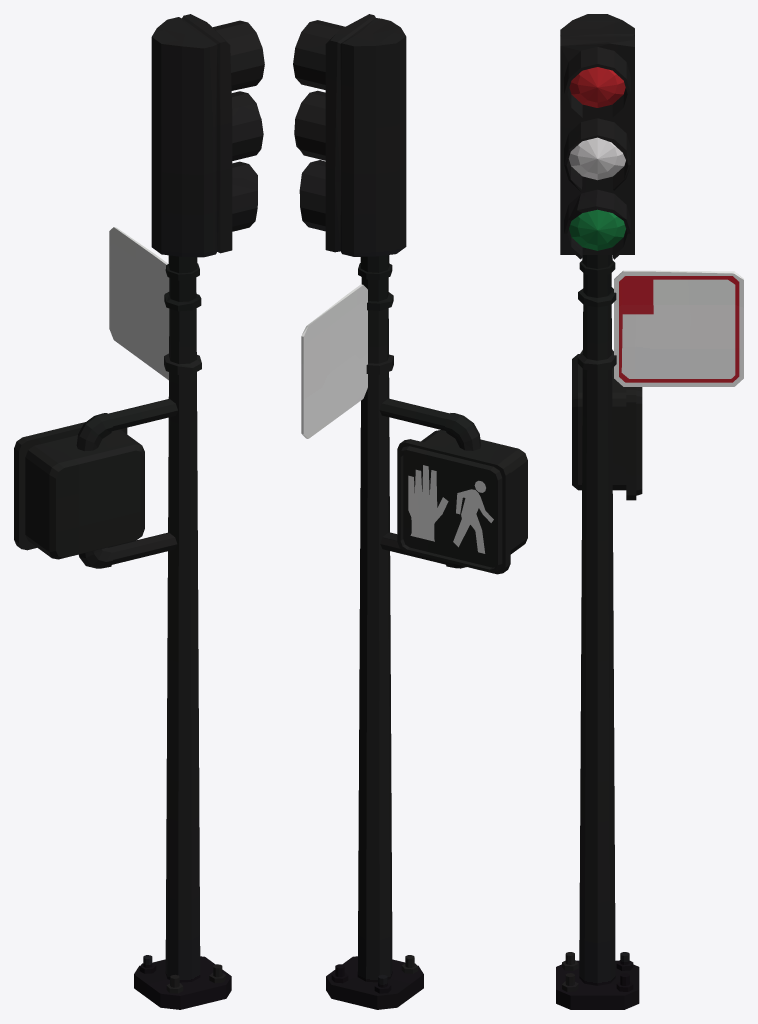
The model's file is LightPole12.fbx.
3 renders of one model, left to right at view 1: azimuth 30°, elevation 25°; view 2: azimuth 150°, elevation 25°; view 3: azimuth 270°, elevation 25°, orthographic.
Visible parts, largest first — view 1: SM_City_LightPole_03c.mo; view 2: SM_City_LightPole_03c.mo; view 3: SM_City_LightPole_03c.mo.
Boxes of the visible parts, left/top/right/bottom form: SM_City_LightPole_03c.mo: left=14, top=14, right=264, bottom=1009; SM_City_LightPole_03c.mo: left=293, top=14, right=527, bottom=1009; SM_City_LightPole_03c.mo: left=556, top=14, right=743, bottom=1009.
Size of the model in its own units: 104 by 443 by 78.13.
